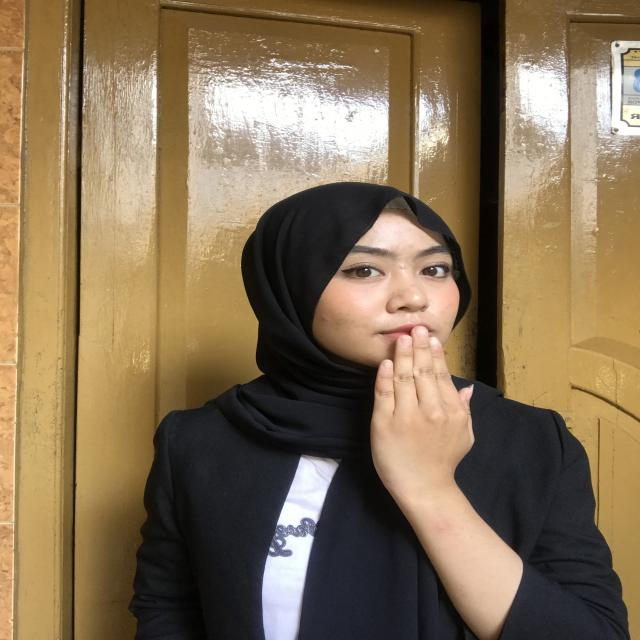ganteng: (348, 317, 480, 498)
